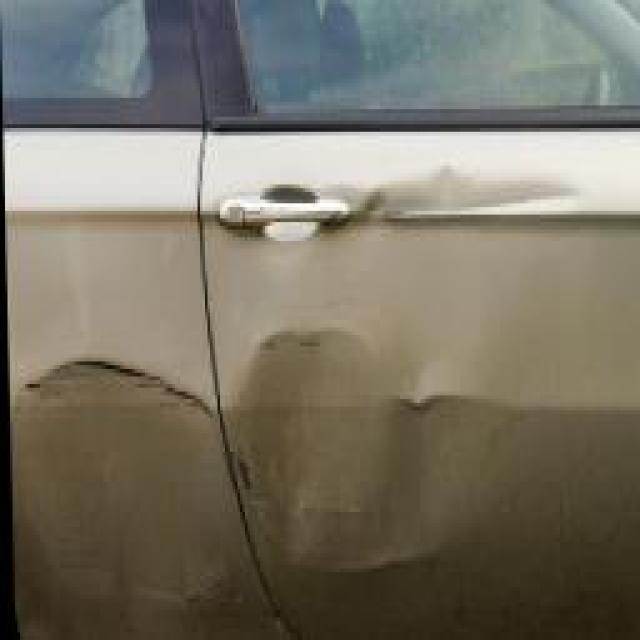Door: (235, 139, 640, 640), (18, 331, 218, 482)
